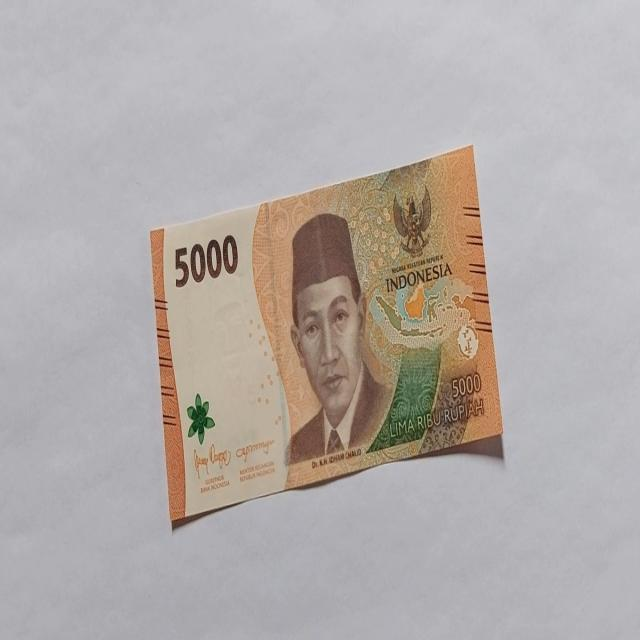lima ribu rupiah: (148, 146, 504, 532), (283, 212, 393, 468)
